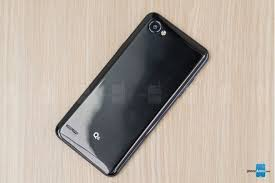lg: (56, 7, 210, 177)
